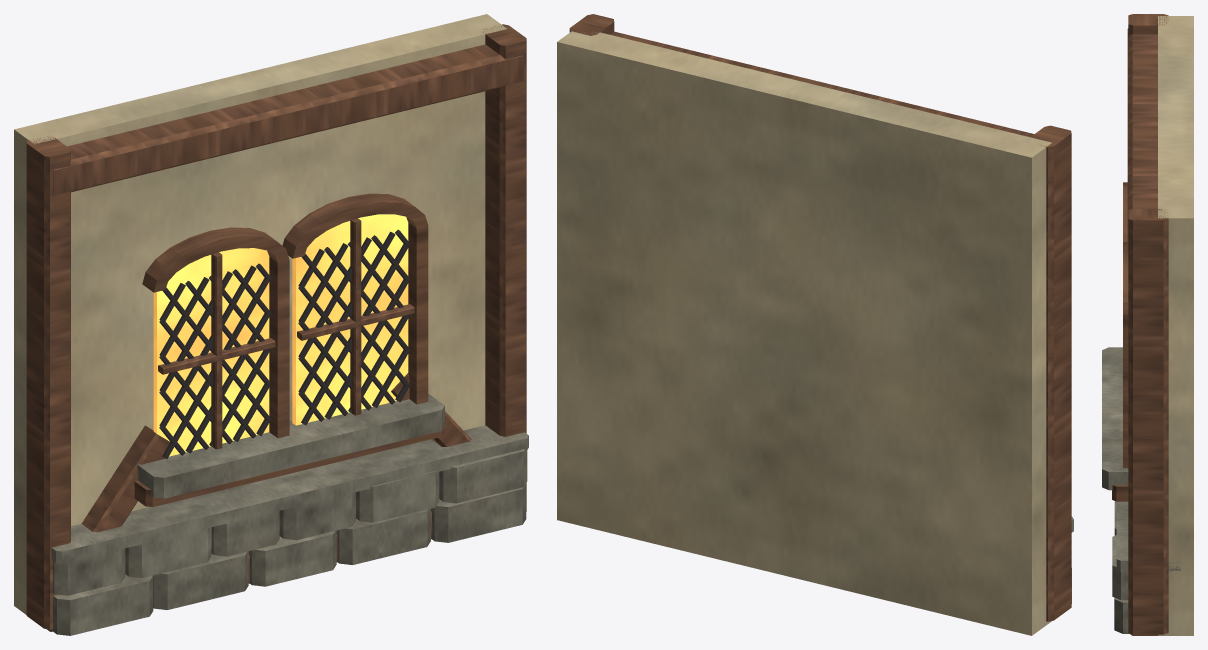
File: wall_window_lower.glb
The picture shows the model from 3 angles, left to right: view 1: azimuth 30°, elevation 25°; view 2: azimuth 150°, elevation 25°; view 3: azimuth 270°, elevation 25°; orthographic projection. The views are drawn at different scales.
Visible parts, largest first — view 1: Wall Window Lower; view 2: Wall Window Lower; view 3: Wall Window Lower.
Part boxes in pixels (box(x1,y1,x2,y2)): Wall Window Lower: box(14, 14, 528, 635); Wall Window Lower: box(557, 14, 1073, 635); Wall Window Lower: box(1102, 14, 1193, 635).
Size of the model in its own units: 3.26 by 3.09 by 0.615.
Materials: 5 (4 with a texture image).
